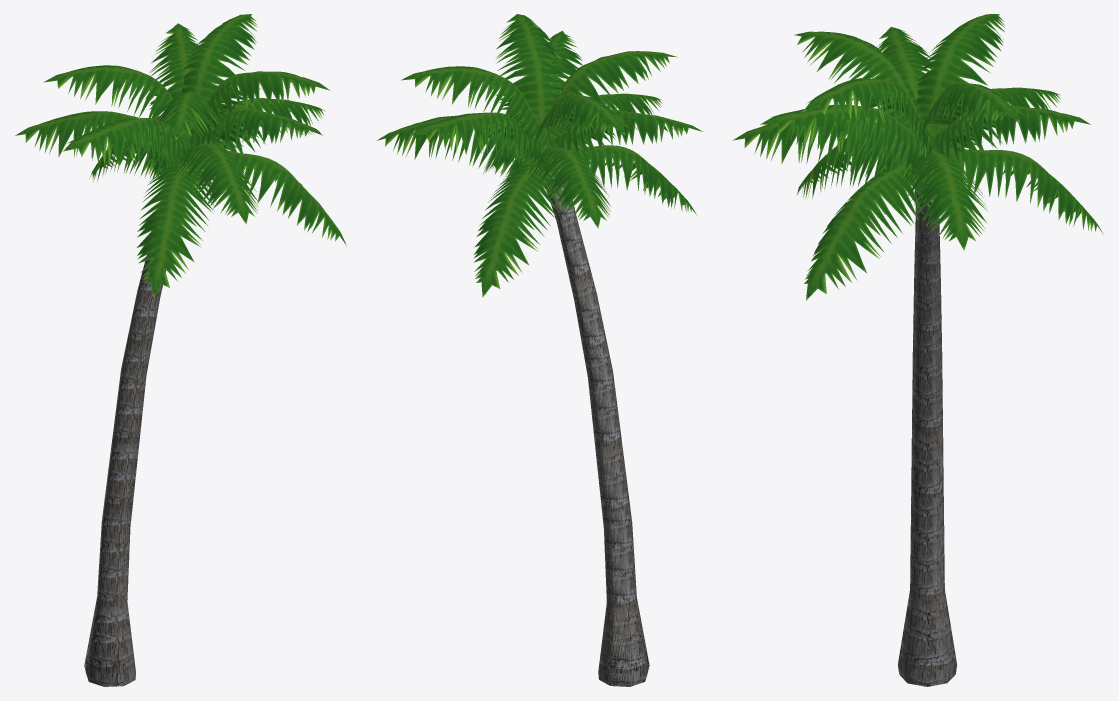
The model's file is tropical_palm_tree.glb.
The picture shows the model from 3 angles, left to right: view 1: azimuth 30°, elevation 25°; view 2: azimuth 150°, elevation 25°; view 3: azimuth 270°, elevation 25°; orthographic projection. The views are drawn at different scales.
Visible parts, largest first — view 1: palm_leaves, palm_trunk; view 2: palm_leaves, palm_trunk; view 3: palm_leaves, palm_trunk.
Part boxes in pixels (x1,y1,x2,y2): palm_leaves: (15, 14, 346, 297); palm_trunk: (84, 251, 166, 686); palm_leaves: (376, 14, 702, 297); palm_trunk: (546, 163, 649, 686); palm_leaves: (732, 14, 1103, 300); palm_trunk: (898, 184, 956, 686).
Size of the model in its own units: 1189 by 2281 by 1163.
Materials: 2 (2 with a texture image).
